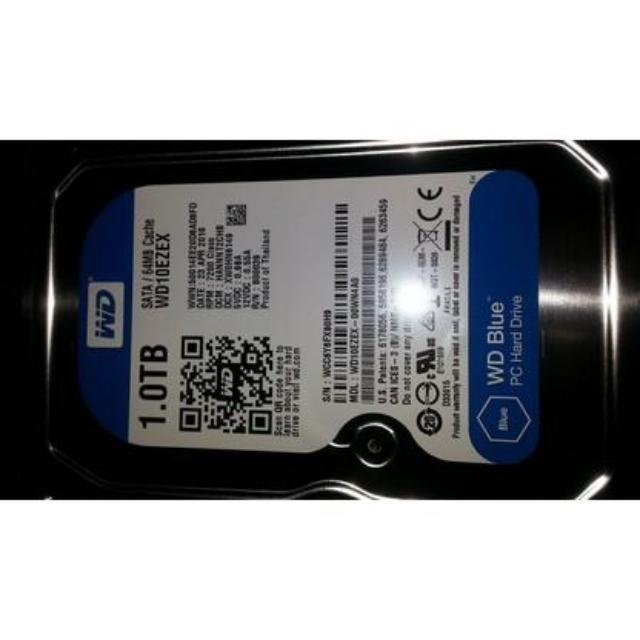DISK: (49, 155, 618, 496)
